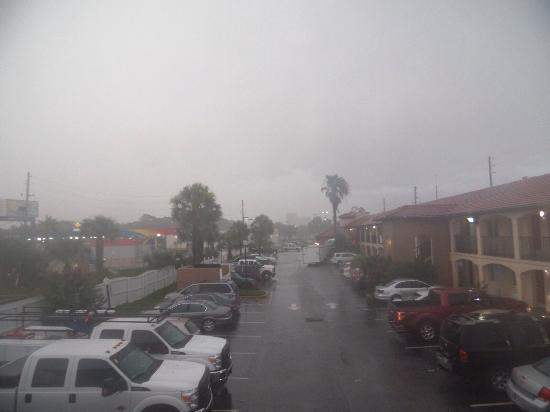bus: (302, 243, 330, 266)
car: (1, 338, 215, 412), (9, 318, 234, 388), (435, 307, 549, 395), (388, 286, 532, 345), (136, 299, 233, 332), (164, 279, 241, 306), (151, 292, 241, 315), (373, 276, 436, 305), (217, 258, 276, 282), (212, 271, 256, 291), (332, 252, 362, 268), (246, 253, 278, 266), (281, 242, 302, 252)
